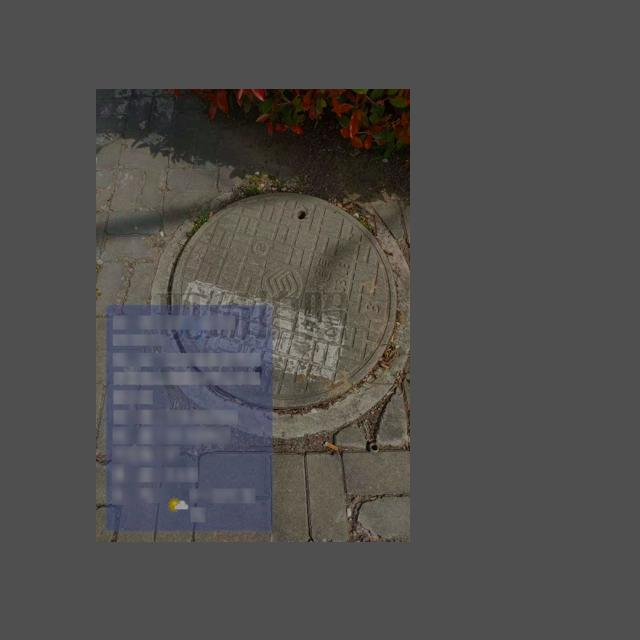circle: (163, 180, 404, 428)
